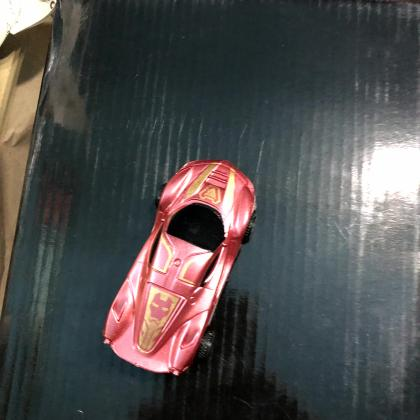Car: (99, 157, 261, 379)
